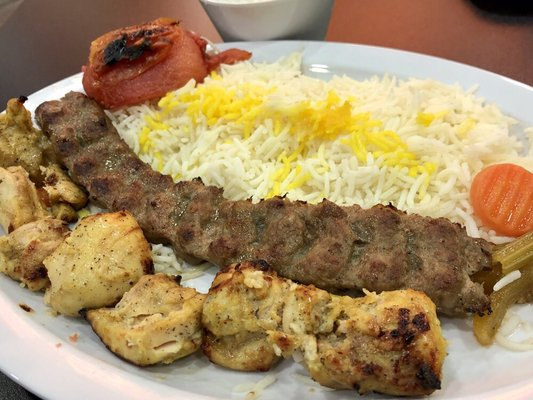sushi: (198, 0, 334, 42)
